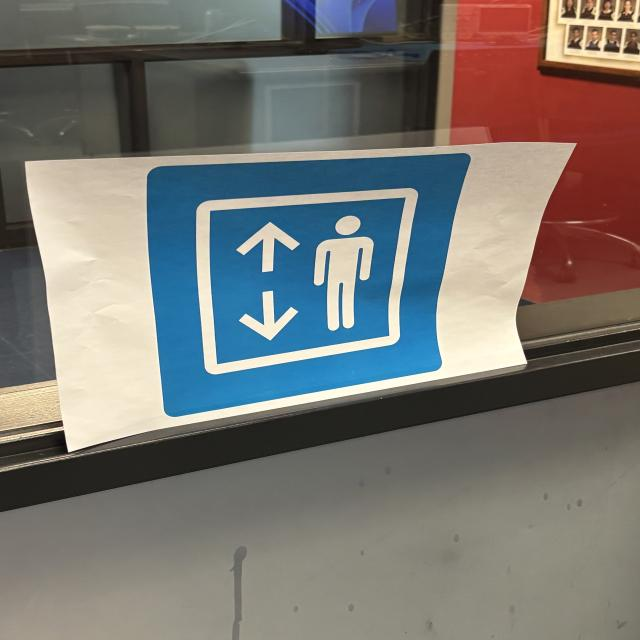elevator: (146, 156, 473, 416)
